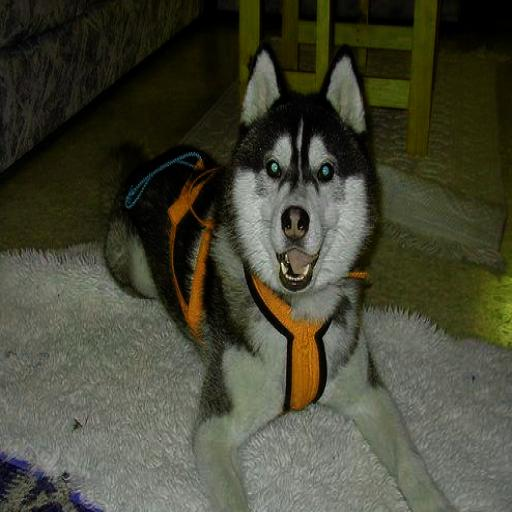dog_face: (242, 44, 364, 291)
